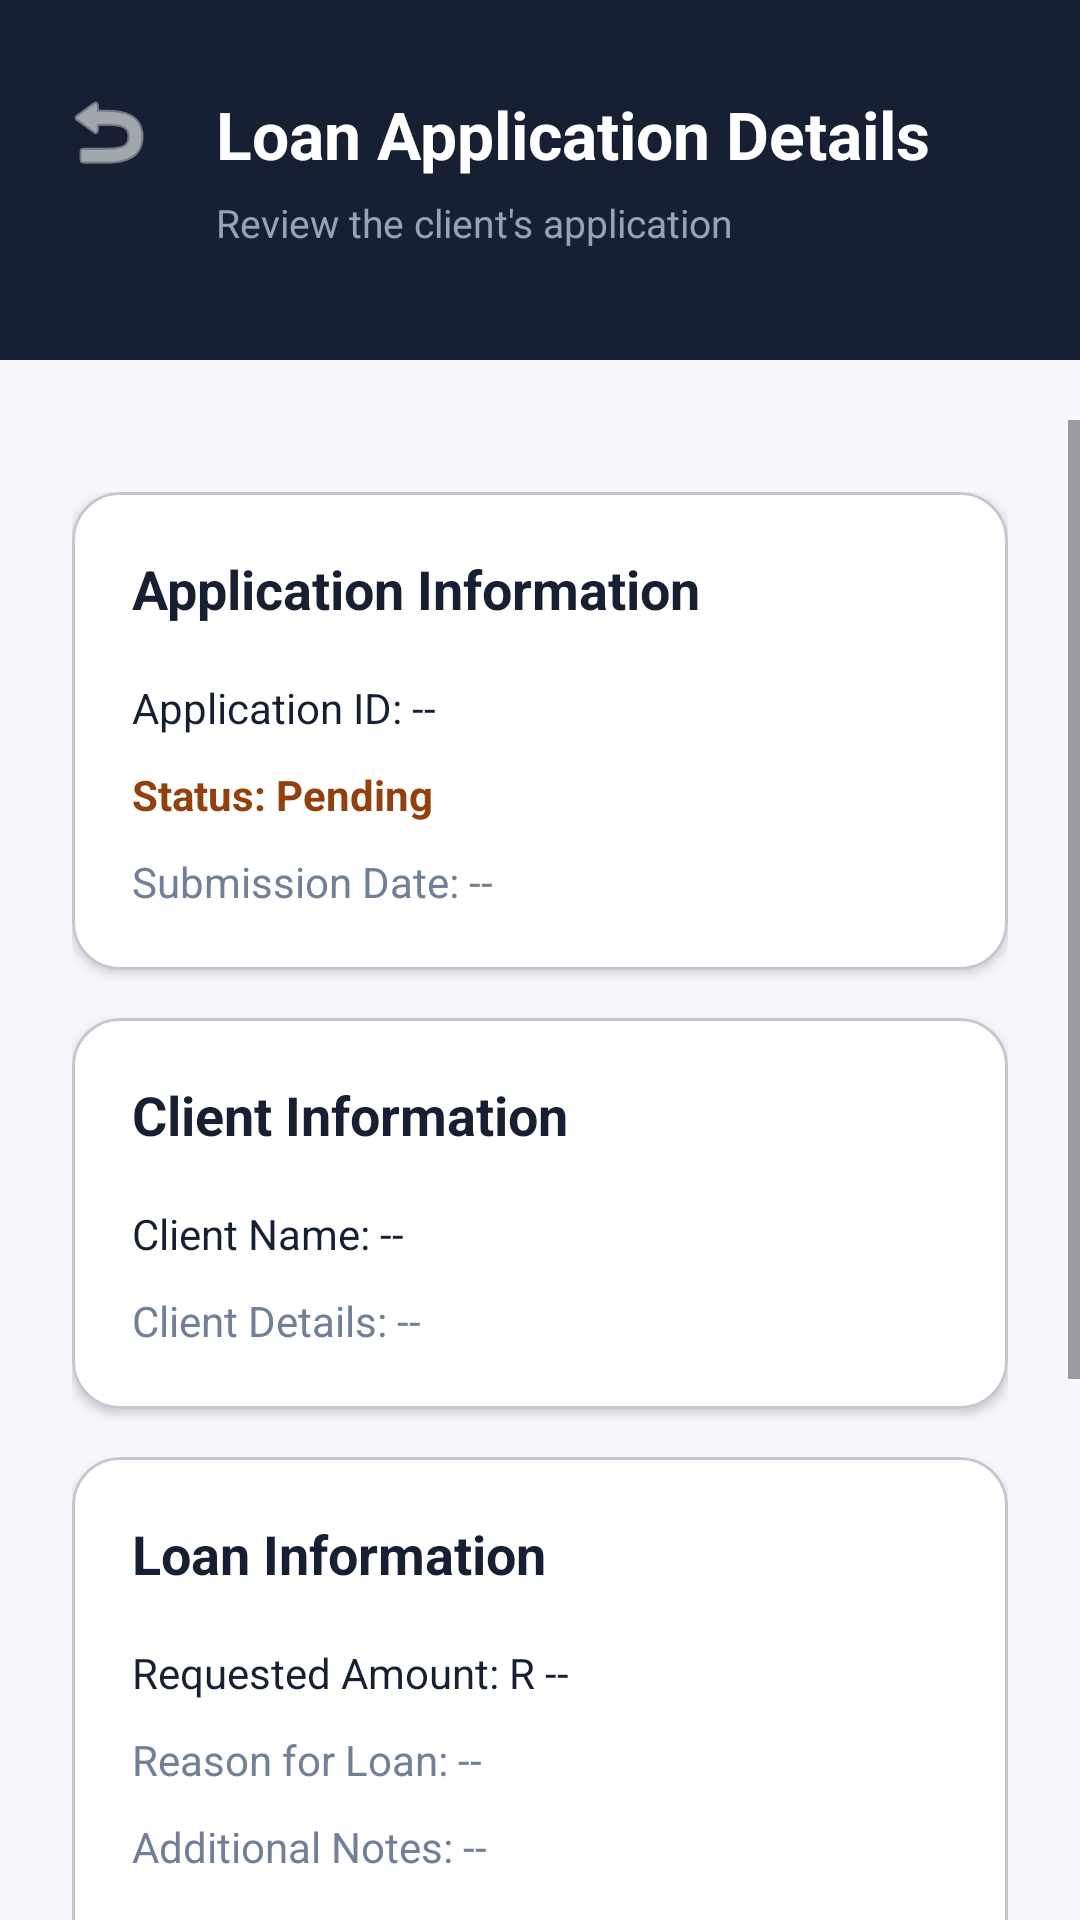

Named icons in this screenshot (1080px×1920px) and their centers, point (x, y):
Back: point (109, 132)
